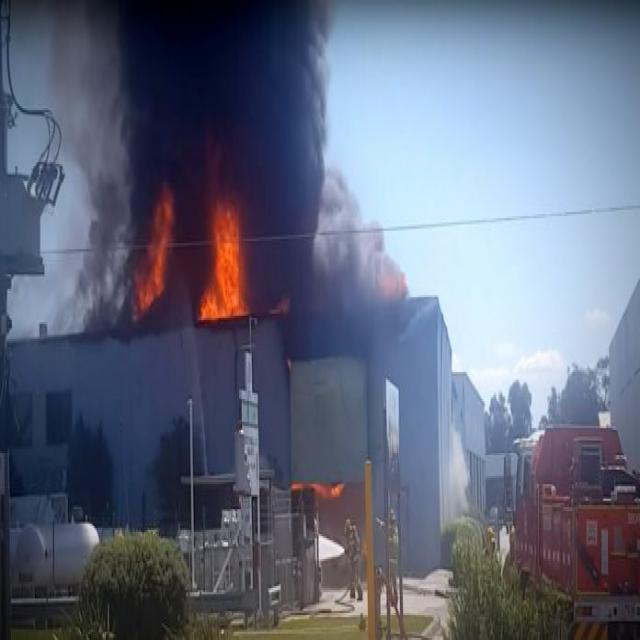fire: (197, 179, 256, 330), (130, 179, 178, 328), (287, 469, 350, 498), (268, 287, 294, 316)
